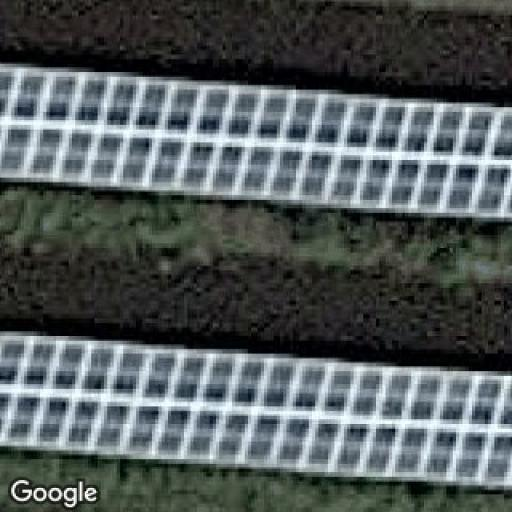solar-panel: (0, 60, 512, 214), (0, 333, 512, 485)
